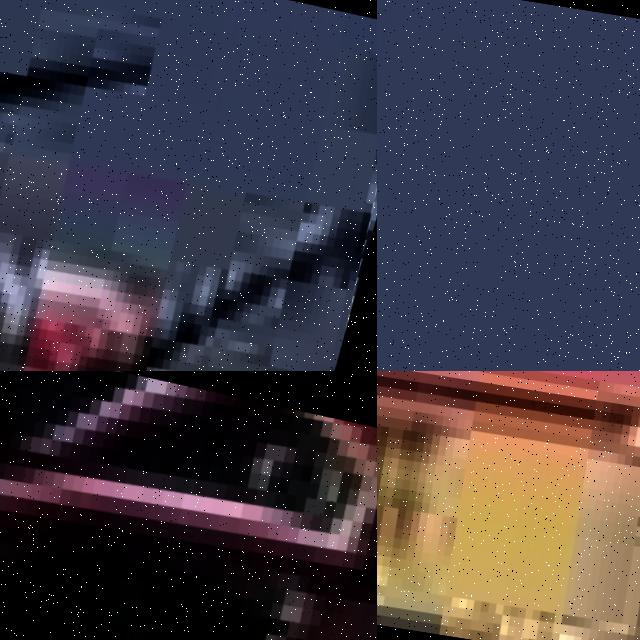0: (0, 0, 377, 371)
drone: (0, 371, 377, 640)
